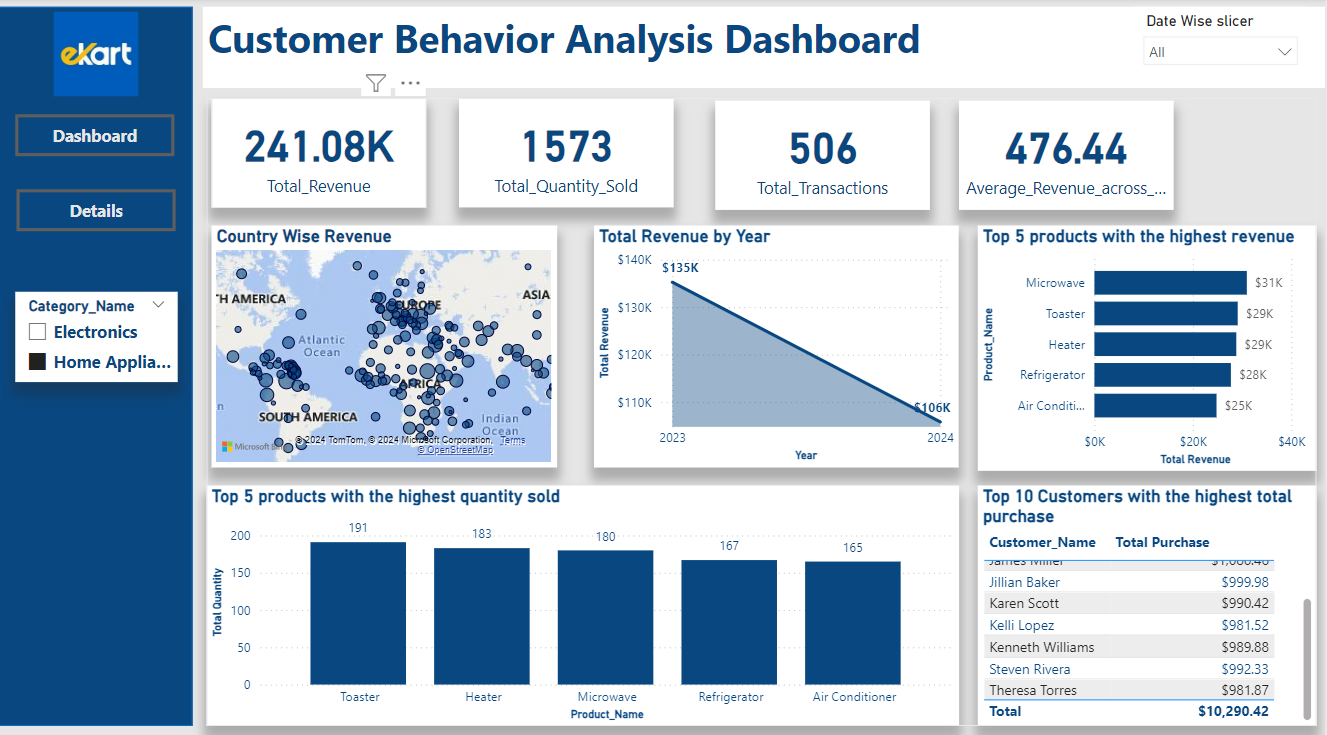

What the dashboard file says about the page in this screenshot:
{"tool":"powerbi","page":{"name":"Dashboard","canvas":[1280,720],"ordinal":0},"visuals":[{"type":"card","fields":{"Values":["transactions_project transactions.Total_Revenue"]},"box":[204.8,96.4,207.1,106],"z":0,"group":"g1"},{"type":"shape","box":[0,8.3,186.9,694.1],"z":0},{"type":"card","fields":{"Values":["transactions_project transactions.Total_Quantity_Sold"]},"box":[444,96.4,207.1,106],"z":1000,"group":"g1"},{"type":"actionButton","box":[15.5,111.9,153.6,40.5],"z":1000},{"type":"card","fields":{"Values":["transactions_project transactions.Total_Transactions"]},"box":[690.5,98.8,207.1,106],"z":2000,"group":"g1"},{"type":"actionButton","box":[16.7,184.5,153.6,40.5],"z":2000},{"type":"card","fields":{"Values":["transactions_project transactions.Average_Revenue_across_Transactions"]},"box":[926.2,98.8,207.1,106],"z":3000,"group":"g1"},{"type":"textbox","box":[196.4,8.3,1083.3,78.6],"z":3000},{"type":"slicer","fields":{"Values":["transactions_project transactions.Date Hierarchy.Year","transactions_project transactions.Date Hierarchy.Quarter","transactions_project transactions.Date Hierarchy.Monthname"]},"box":[1094.1,8.3,169,78.6],"z":4000},{"type":"map","title":"Country Wise Revenue","fields":{"Category":["transactions_project transactions.Country"],"Size":["transactions_project transactions.Purchase_Price"]},"box":[204.8,219,333.3,233.3],"z":4000,"group":"g1"},{"type":"lineChart","fields":{"Category":["transactions_project transactions.Purchase_Date.Variation.Date Hierarchy.Year","transactions_project transactions.Purchase_Date.Variation.Date Hierarchy.Quarter","transactions_project transactions.Purchase_Date.Variation.Date Hierarchy.Month","transactions_project transactions.Purchase_Date.Variation.Date Hierarchy.Day"],"Y":["transactions_project transactions.Purchase_Price"]},"box":[573.8,219,352.4,233.3],"z":5000,"group":"g1"},{"type":"slicer","fields":{"Values":["transactions_project categories.Category_Name"]},"box":[15.5,283.3,157.1,86.9],"z":5000},{"type":"image","box":[0,8.3,186.9,91.7],"z":6000},{"type":"clusteredBarChart","title":"Top 5 products with the highest revenue","fields":{"Category":["transactions_project products.Product_Name"],"Y":["transactions_project transactions.Purchase_Price"]},"box":[944.1,219,327.4,236.9],"z":6000,"group":"g1"},{"type":"group","id":"g1","title":"Group 1","box":[200,96.4,1071.4,606],"z":7000},{"type":"clusteredColumnChart","title":"Top 5 products with the highest quantity sold","fields":{"Category":["transactions_project products.Product_Name"],"Y":["transactions_project transactions.Purchase_Quantity"]},"box":[200,470.2,726.2,232.1],"z":7000,"group":"g1"},{"type":"tableEx","title":"Top 10 Customers with the highest total purchase","fields":{"Values":["transactions_project customers.Customer_Name","transactions_project transactions.Purchase_Price"]},"box":[944.1,470.2,327.4,232.1],"z":8000,"group":"g1"}]}

Visuals, with their boxes on the page's 1280x720 design canvas (x1, y1, x2, y2). These are canvas units, not pixel positions in the 1327x735 screenshot, which may show the page scaled, cropped or inside an application window:
card - transactions_project transactions.Total_Revenue: box=[205, 96, 412, 202]
shape: box=[0, 8, 187, 702]
card - transactions_project transactions.Total_Quantity_Sold: box=[444, 96, 651, 202]
actionButton: box=[16, 112, 169, 152]
card - transactions_project transactions.Total_Transactions: box=[690, 99, 898, 205]
actionButton: box=[17, 184, 170, 225]
card - transactions_project transactions.Average_Revenue_across_Transactions: box=[926, 99, 1133, 205]
textbox: box=[196, 8, 1280, 87]
slicer - transactions_project transactions.Date Hierarchy.Year x transactions_project transactions.Date Hierarchy.Quarter: box=[1094, 8, 1263, 87]
"Country Wise Revenue" map: box=[205, 219, 538, 452]
lineChart - transactions_project transactions.Purchase_Date.Variation.Date Hierarchy.Year x transactions_project transactions.Purchase_Date.Variation.Date Hierarchy.Quarter: box=[574, 219, 926, 452]
slicer - transactions_project categories.Category_Name: box=[16, 283, 173, 370]
image: box=[0, 8, 187, 100]
"Top 5 products with the highest revenue" clusteredBarChart: box=[944, 219, 1272, 456]
"Group 1" group: box=[200, 96, 1271, 702]
"Top 5 products with the highest quantity sold" clusteredColumnChart: box=[200, 470, 926, 702]
"Top 10 Customers with the highest total purchase" tableEx: box=[944, 470, 1272, 702]
